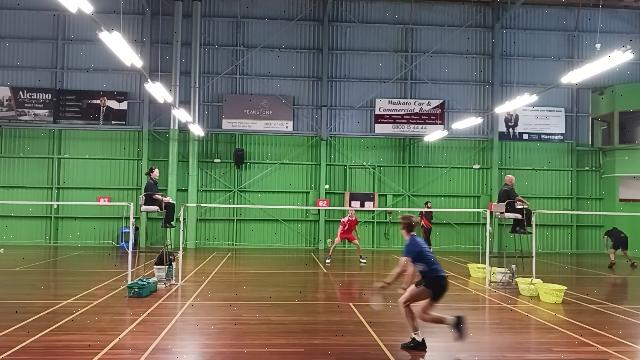Shuttlecock: (324, 183, 331, 192)
